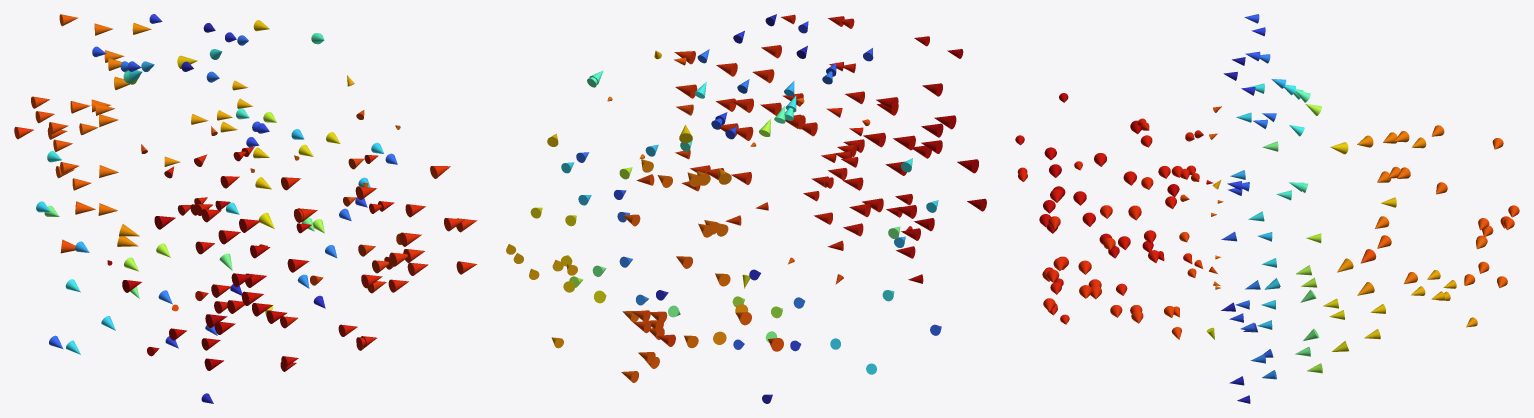
Rendered from LineasCorrienteH2-O2_mh2-6.88_V-0.7.glb.
3 renders of one model, left to right at view 1: azimuth 30°, elevation 25°; view 2: azimuth 150°, elevation 25°; view 3: azimuth 270°, elevation 25°, orthographic. The views are drawn at different scales.
Bounding box in the file's own units: 0.000926 × 0.000969 × 0.00124.
Materials: 2 (2 with a texture image).
